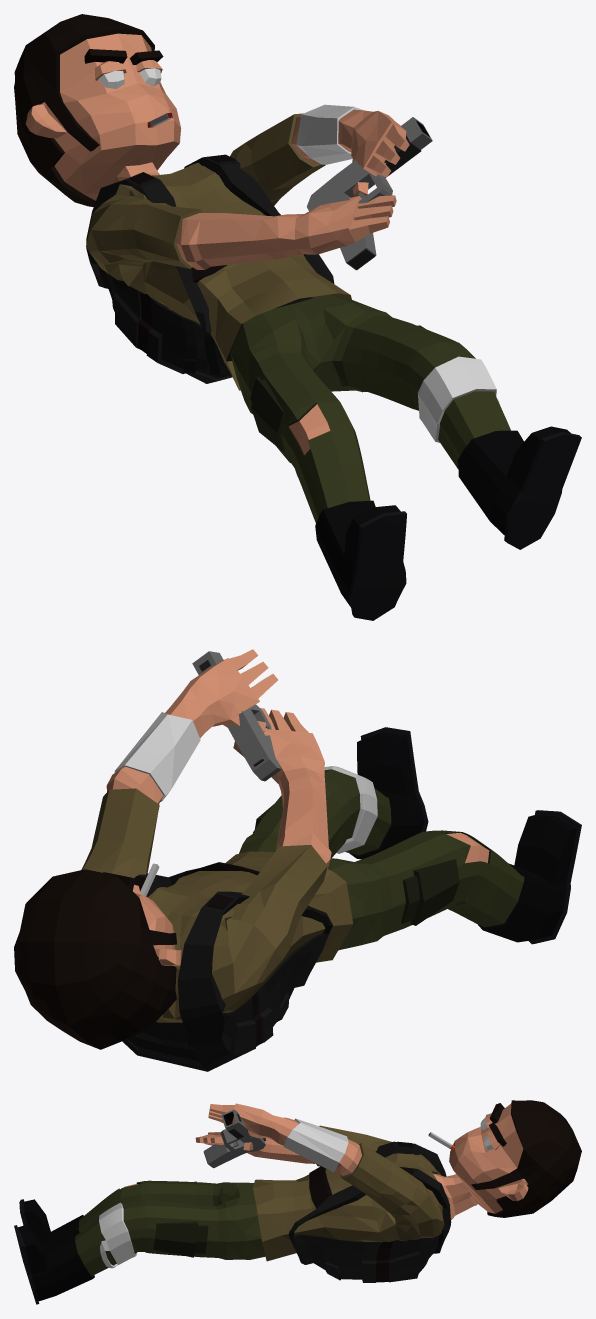
Rendered from frame_0146.obj.
The picture shows the model from 3 angles, top to bottom: view 1: azimuth 30°, elevation 25°; view 2: azimuth 150°, elevation 25°; view 3: azimuth 270°, elevation 25°; orthographic projection. The views are drawn at different scales.
Visible parts, largest first — view 1: Body, Gun; view 2: Body, Gun; view 3: Body, Gun.
Part boxes in pixels (bbox=[...]): Body: bbox=[14, 14, 581, 620]; Gun: bbox=[306, 117, 432, 270]; Body: bbox=[14, 649, 581, 1071]; Gun: bbox=[192, 651, 280, 781]; Body: bbox=[14, 1100, 581, 1304]; Gun: bbox=[203, 1109, 266, 1167].
Size of the model in its own units: 1.27 by 1.88 by 4.14.
